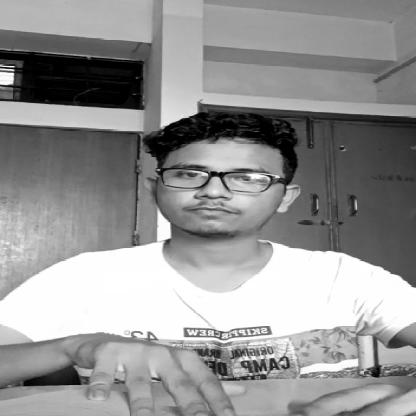Normal: (149, 114, 304, 240)
